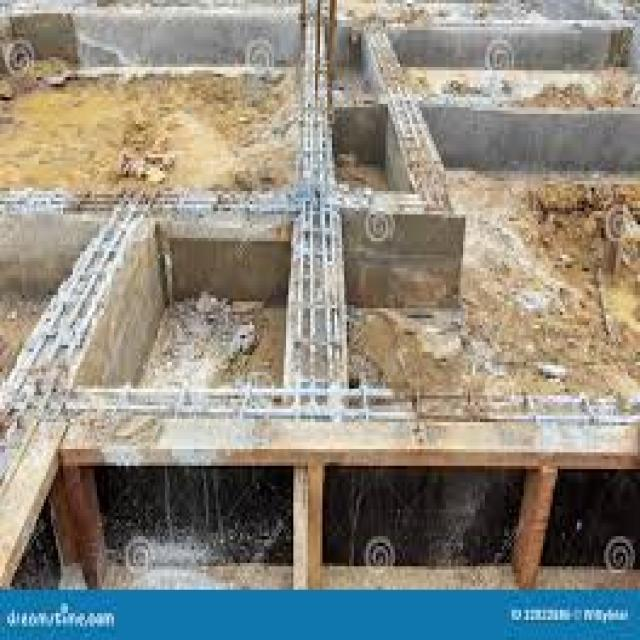Foundation: (32, 79, 609, 558)
